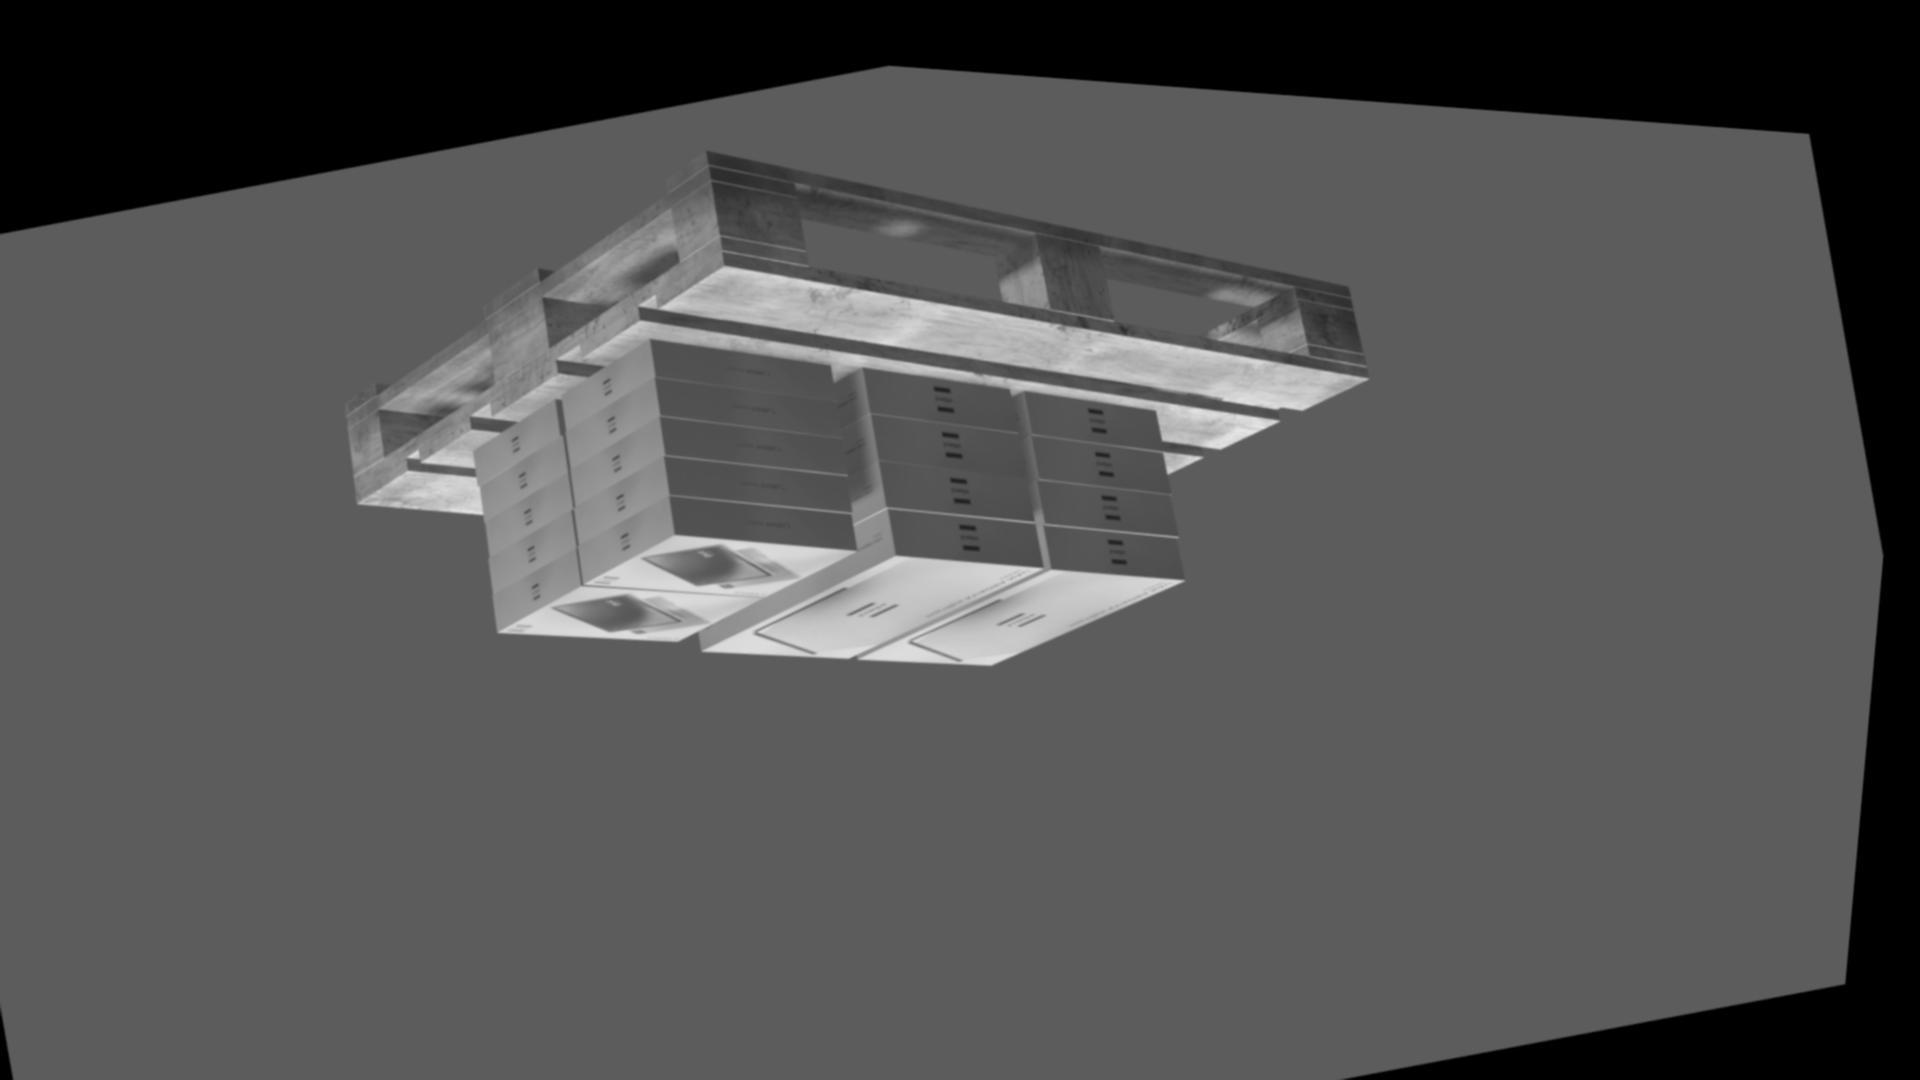laptop_left: (709, 495, 1052, 638), (840, 353, 1025, 415), (856, 447, 1043, 508), (849, 400, 1034, 460), (1018, 373, 1171, 433), (1029, 418, 1179, 475), (1036, 463, 1187, 517), (1047, 506, 1193, 559)
laptop_top: (717, 539, 1054, 645), (870, 551, 1195, 650)
palet: (351, 137, 1374, 509)
tablet_left: (568, 327, 843, 421), (574, 367, 849, 459), (578, 406, 856, 497), (583, 446, 862, 534), (588, 485, 866, 574), (481, 390, 568, 476), (505, 538, 592, 622), (497, 501, 587, 583), (495, 464, 582, 547), (488, 429, 575, 512)
tablet_top: (597, 522, 868, 585), (509, 575, 770, 632)
